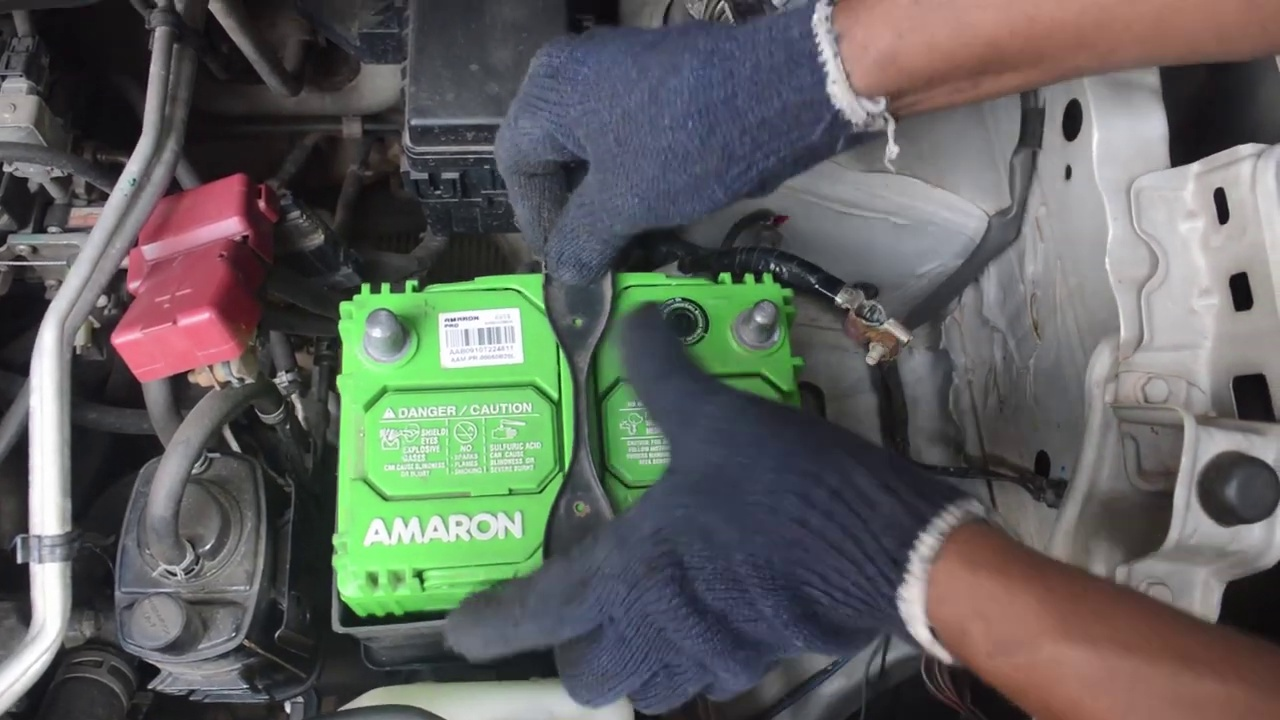battery: (328, 267, 800, 580)
neg_disconnected: (696, 266, 820, 387)
pos_disconnected: (126, 174, 420, 402)
